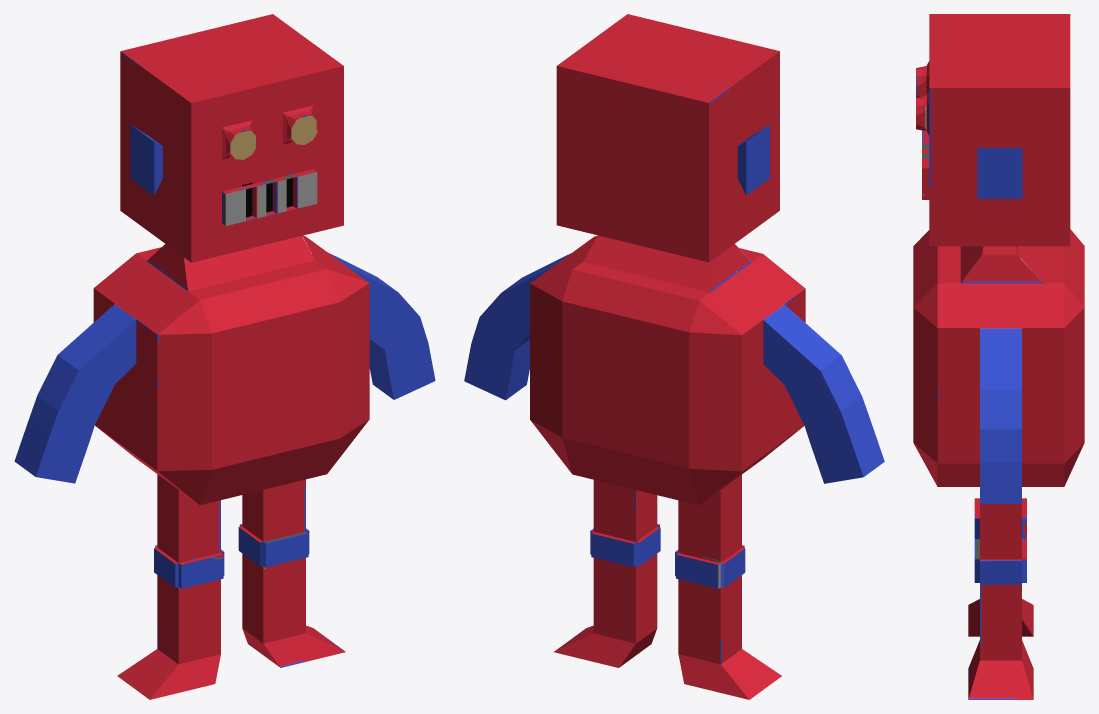
Rendered from robo_1.fbx.
The picture shows the model from 3 angles, left to right: view 1: azimuth 30°, elevation 25°; view 2: azimuth 150°, elevation 25°; view 3: azimuth 270°, elevation 25°; orthographic projection.
Parts seen in each view (by area): view 1: 立方体; view 2: 立方体; view 3: 立方体.
Boxes of the visible parts, x1,y1,x2,y2 form: 立方体: [14, 14, 435, 699]; 立方体: [464, 14, 884, 699]; 立方体: [913, 14, 1084, 699].
Bounding box in the file's own units: 111 × 161 × 41.47.
Materials: 1 (1 with a texture image).
